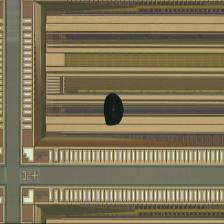PARTICLE: (102, 92, 128, 128)
